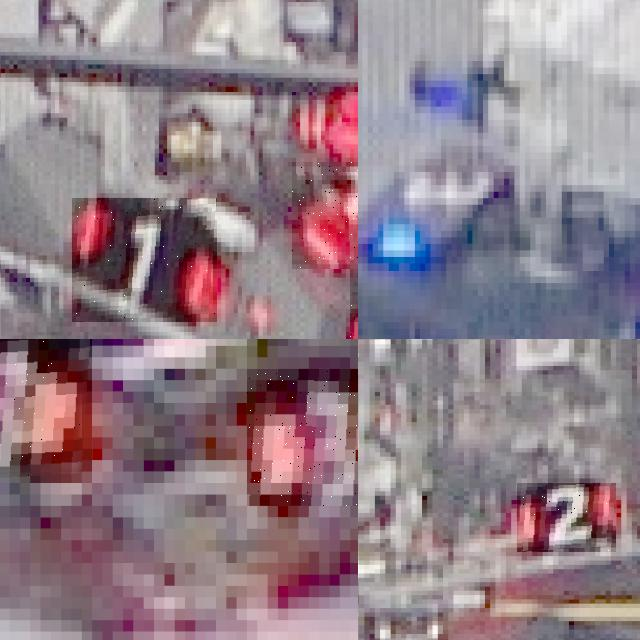R1: (72, 198, 217, 322), (291, 162, 358, 268)
R2: (517, 483, 616, 552)
R3: (247, 369, 358, 506), (0, 339, 92, 483)
